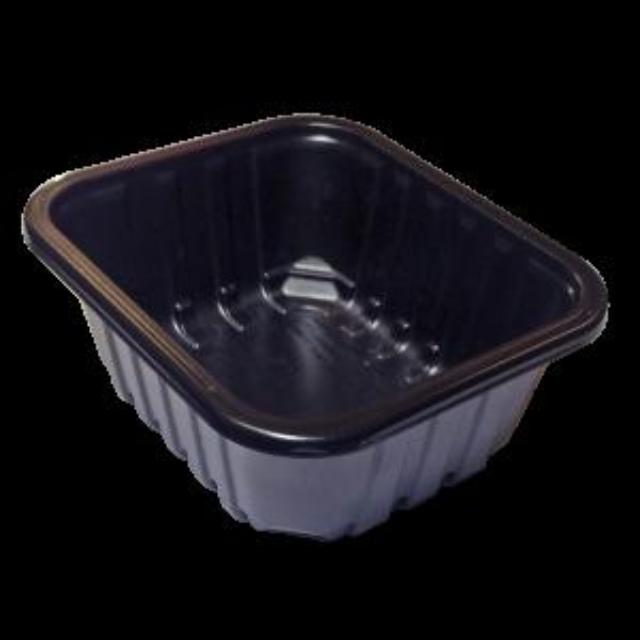plastic_box: (20, 106, 606, 540)
